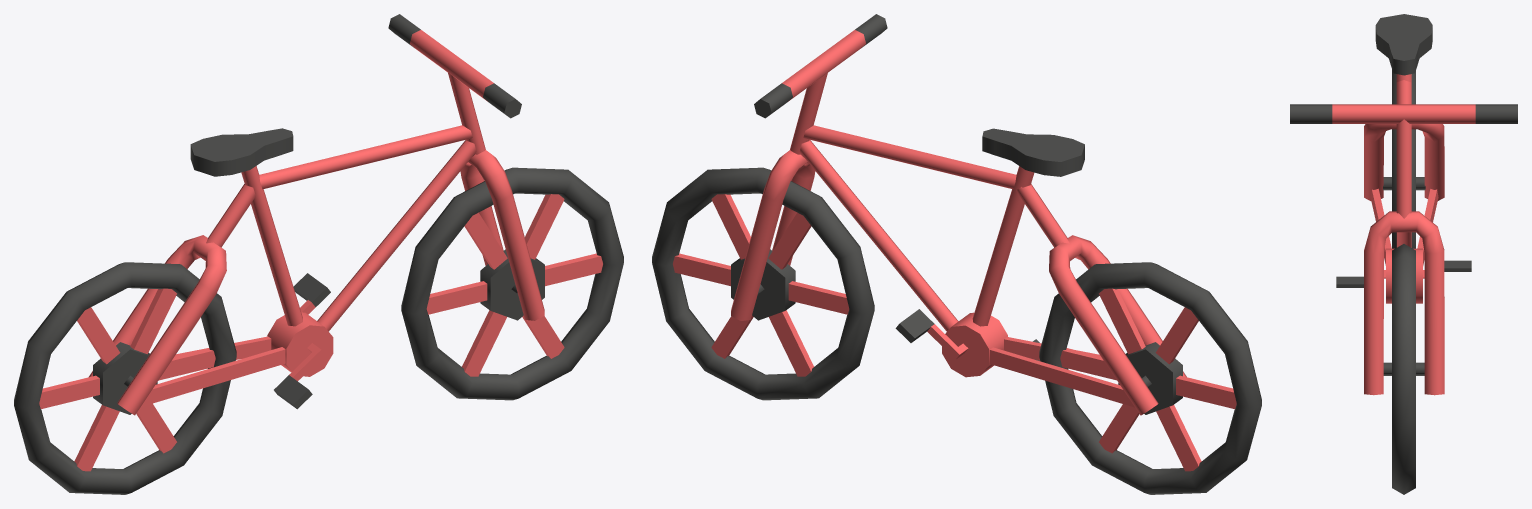
File: bike_red.fbx
3 views of the same model, side by side, from view 1: azimuth 30°, elevation 25°; view 2: azimuth 150°, elevation 25°; view 3: azimuth 270°, elevation 25° (orthographic).
Visible parts, largest first — view 1: bike_red; view 2: bike_red; view 3: bike_red.
Part boxes in pixels (box(x1,y1,x2,y2)): bike_red: box(14, 14, 623, 494); bike_red: box(652, 14, 1261, 494); bike_red: box(1290, 14, 1517, 494).
Size of the model in its own units: 131 by 73.55 by 43.26.
1 material, 1 textured.
